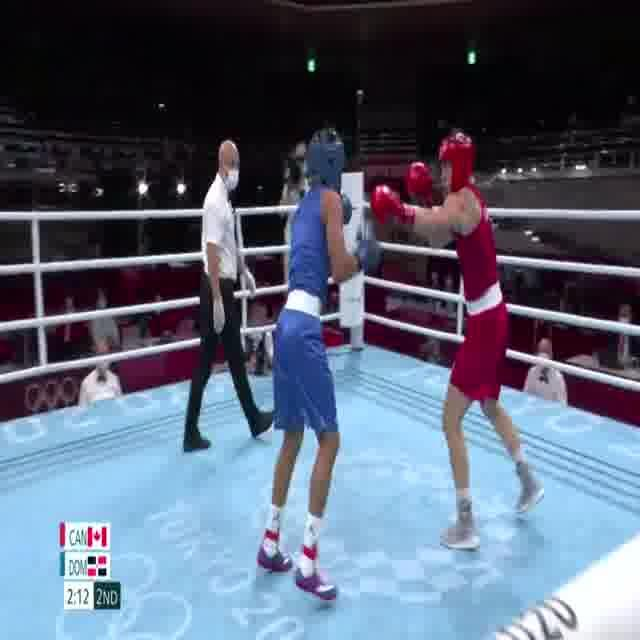blue-player: (254, 125, 382, 603)
red-player: (361, 121, 548, 552)
referee: (179, 135, 279, 456)
